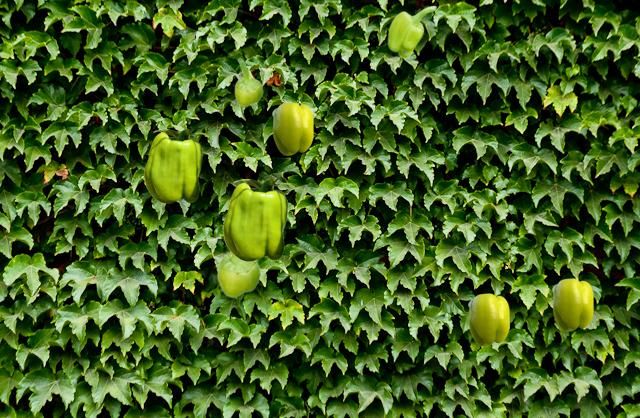bell_pepper: (223, 179, 293, 260), (144, 129, 207, 202), (217, 225, 260, 297), (387, 5, 436, 57), (552, 278, 592, 330), (272, 102, 312, 154), (468, 293, 508, 345), (234, 58, 262, 106)
